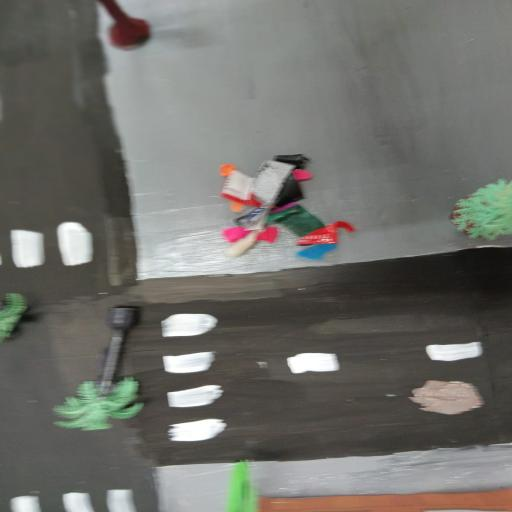fallen trees: (54, 301, 152, 433)
trash: (209, 148, 360, 268)
